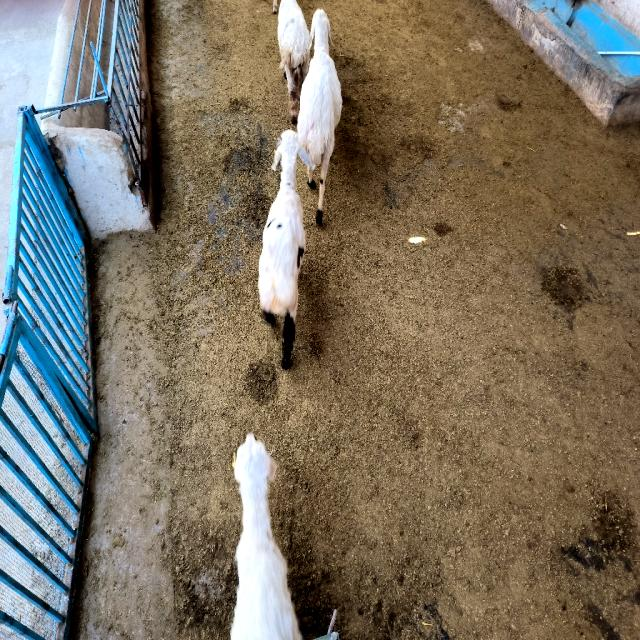sheep: (231, 433, 301, 640), (259, 130, 315, 368), (298, 8, 342, 224), (278, 0, 311, 122)
